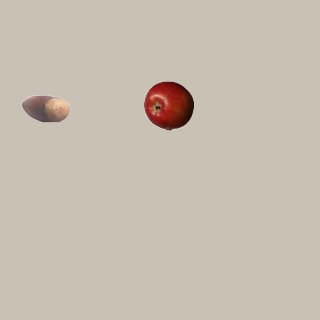Apple Braeburn: (143, 80, 193, 130)
Hazelnut: (20, 83, 70, 133)
